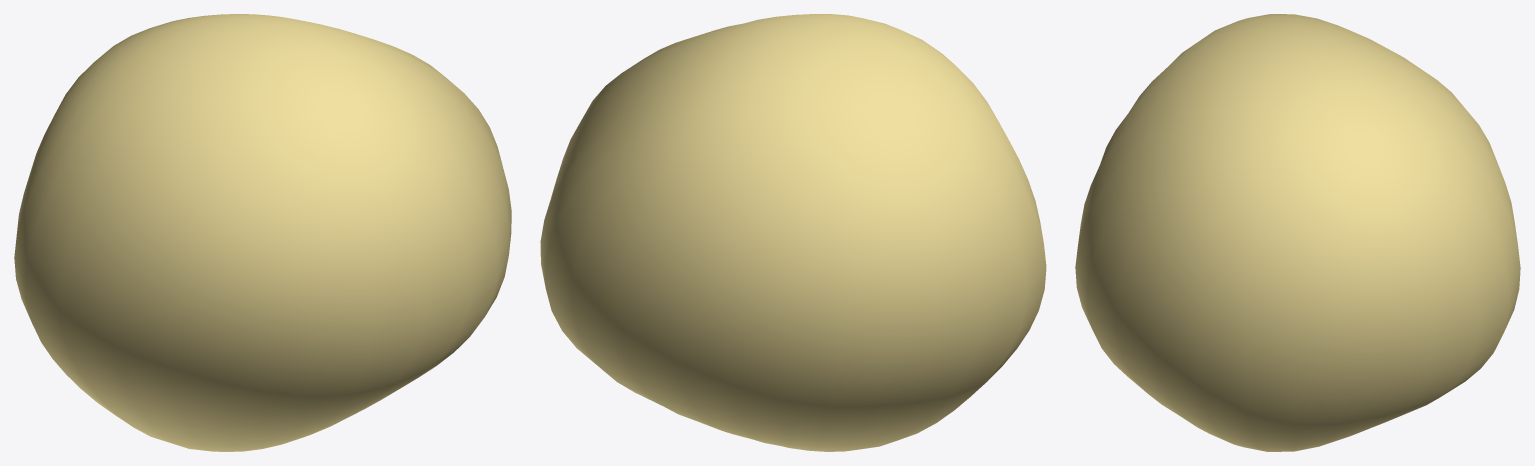
The model's file is mars_reconnaissance_orbiter.glb.
3 views of the same model, side by side, from view 1: azimuth 30°, elevation 25°; view 2: azimuth 150°, elevation 25°; view 3: azimuth 270°, elevation 25° (orthographic). The views are drawn at different scales.
Visible parts, largest first — view 1: SpacecraftNode; view 2: SpacecraftNode; view 3: SpacecraftNode.
Part boxes in pixels (box(x1,y1,x2,y2)): SpacecraftNode: box(14, 14, 511, 451); SpacecraftNode: box(540, 14, 1046, 451); SpacecraftNode: box(1075, 14, 1520, 451).
Size of the model in its own units: 2.04 by 1.75 by 1.82.
